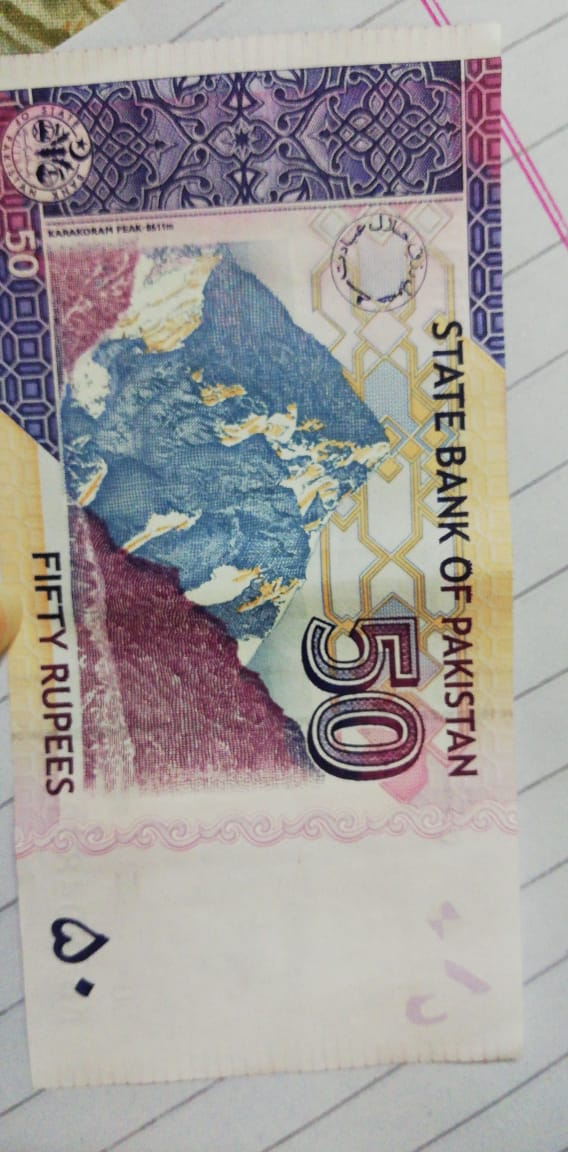50 rupee: (7, 59, 527, 1101)
